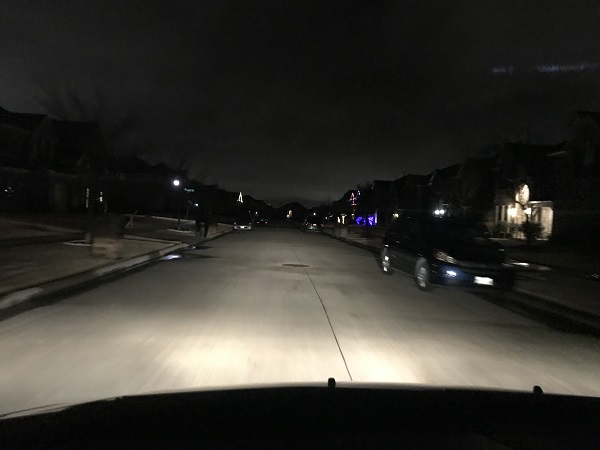car: (375, 215, 511, 293), (300, 217, 324, 234), (230, 216, 252, 233)
